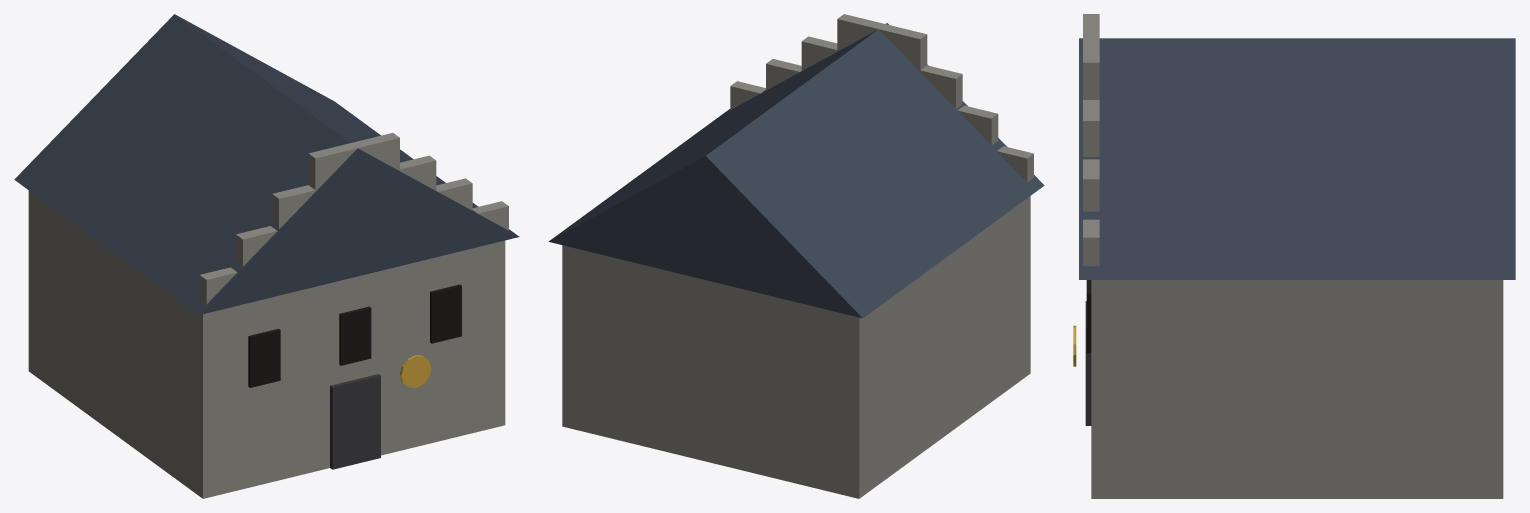
Rendered from mint.glb.
The picture shows the model from 3 angles, left to right: view 1: azimuth 30°, elevation 25°; view 2: azimuth 150°, elevation 25°; view 3: azimuth 270°, elevation 25°; orthographic projection. The views are drawn at different scales.
Parts seen in each view (by area): view 1: Mint; view 2: Mint; view 3: Mint.
Boxes of the visible parts, x1,y1,x2,y2 form: Mint: (14, 14, 519, 498); Mint: (548, 14, 1044, 498); Mint: (1073, 14, 1515, 498).
Bounding box in the file's own units: 10.6 × 10 × 10.74.
